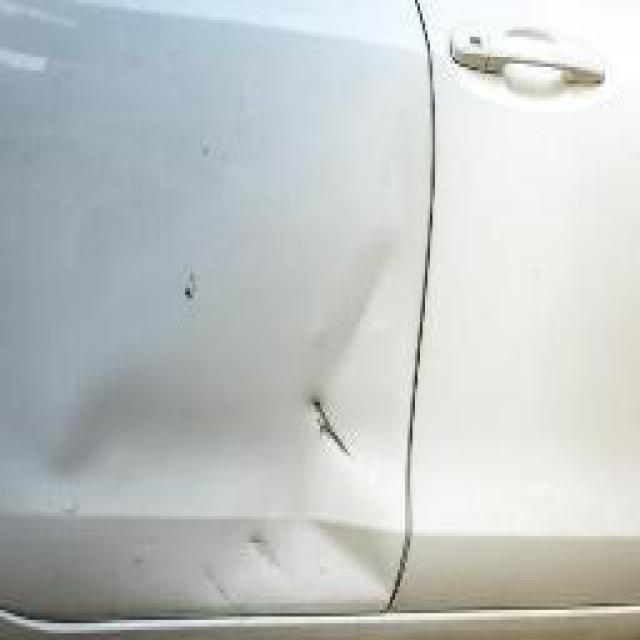Door: (155, 184, 460, 613)
